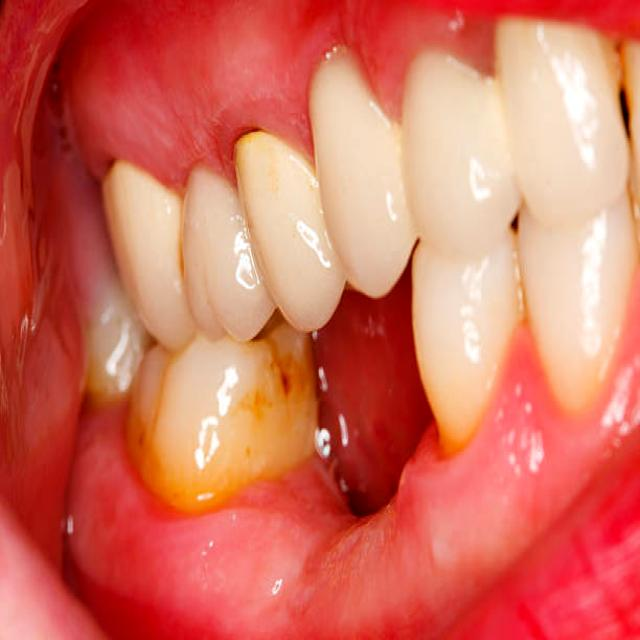gingivitis: (79, 292, 639, 618), (68, 0, 582, 187)
